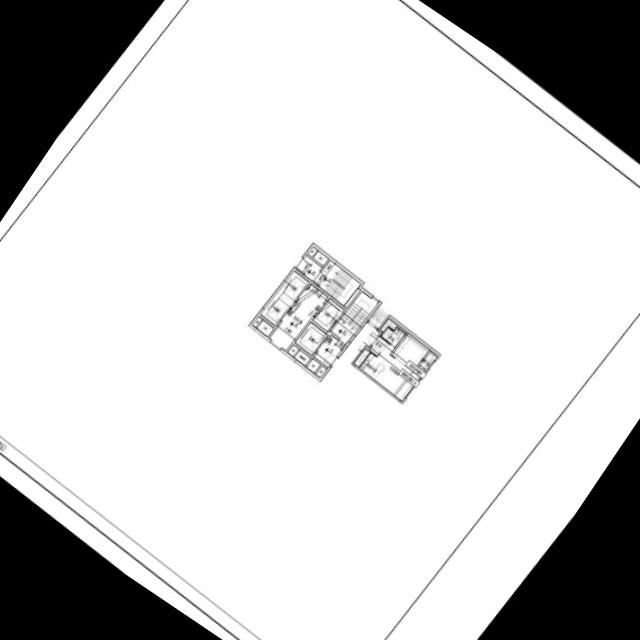background: (0, 0, 640, 640)
space_bedroom: (376, 333, 429, 401)
space_elevator: (277, 271, 309, 304), (295, 322, 327, 355), (312, 298, 344, 331), (260, 293, 292, 325)
space_elevator_hall: (269, 284, 327, 350), (314, 335, 344, 367)
space_front: (369, 336, 387, 355)
space_kitchen: (359, 353, 387, 380)
space_other: (296, 255, 321, 280), (368, 309, 387, 328), (353, 348, 370, 367), (344, 288, 360, 307), (257, 320, 273, 336), (294, 350, 310, 365), (380, 318, 397, 332), (313, 251, 328, 266), (306, 358, 320, 373), (315, 365, 326, 377), (287, 345, 298, 356), (252, 316, 262, 327), (307, 246, 317, 256)
space_outdoor_room: (420, 351, 437, 369)
space_staircase: (331, 291, 377, 343), (313, 260, 360, 305)
space_toilet: (381, 327, 405, 347)
